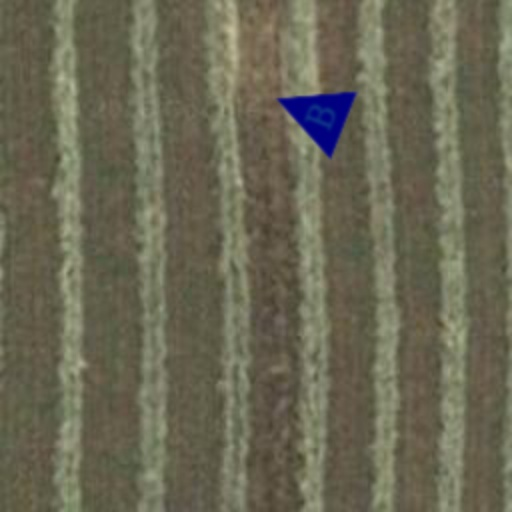triangle: (262, 64, 358, 160)
